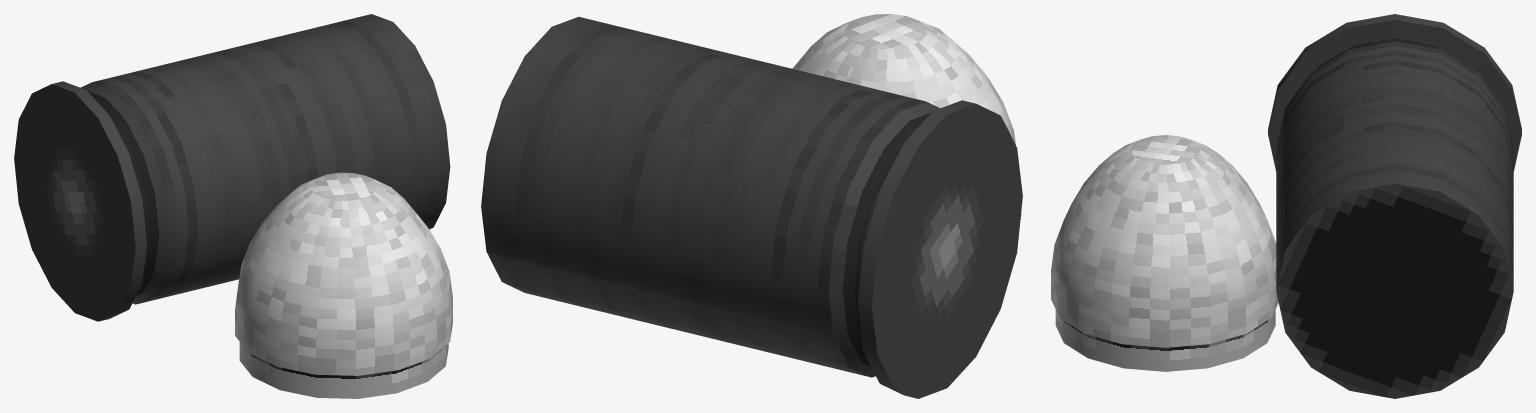
File: ammomaker_PartsGrenade.fbx
3 views of the same model, side by side, from view 1: azimuth 30°, elevation 25°; view 2: azimuth 150°, elevation 25°; view 3: azimuth 270°, elevation 25° (orthographic). The views are drawn at different scales.
Parts seen in each view (by area): view 1: ammomaker_PartsGrenade; view 2: ammomaker_PartsGrenade; view 3: ammomaker_PartsGrenade.
Boxes of the visible parts, x1,y1,x2,y2 form: ammomaker_PartsGrenade: (14, 14, 452, 398); ammomaker_PartsGrenade: (481, 14, 1022, 398); ammomaker_PartsGrenade: (1051, 14, 1521, 398).
Bounding box in the file's own units: 6.7 × 4.43 × 8.22.
